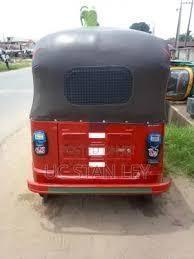keke: (22, 27, 179, 217)
